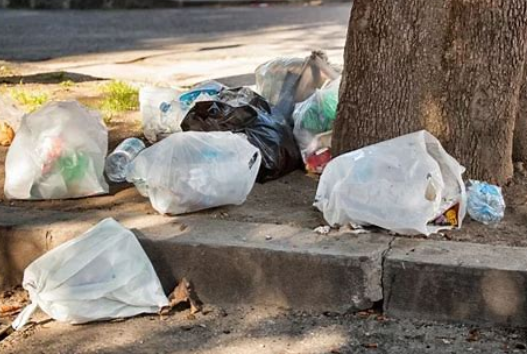garbage: (308, 132, 523, 240), (16, 216, 169, 321), (134, 76, 293, 177), (2, 92, 114, 199), (253, 53, 338, 166), (134, 132, 263, 204), (102, 134, 147, 178)
